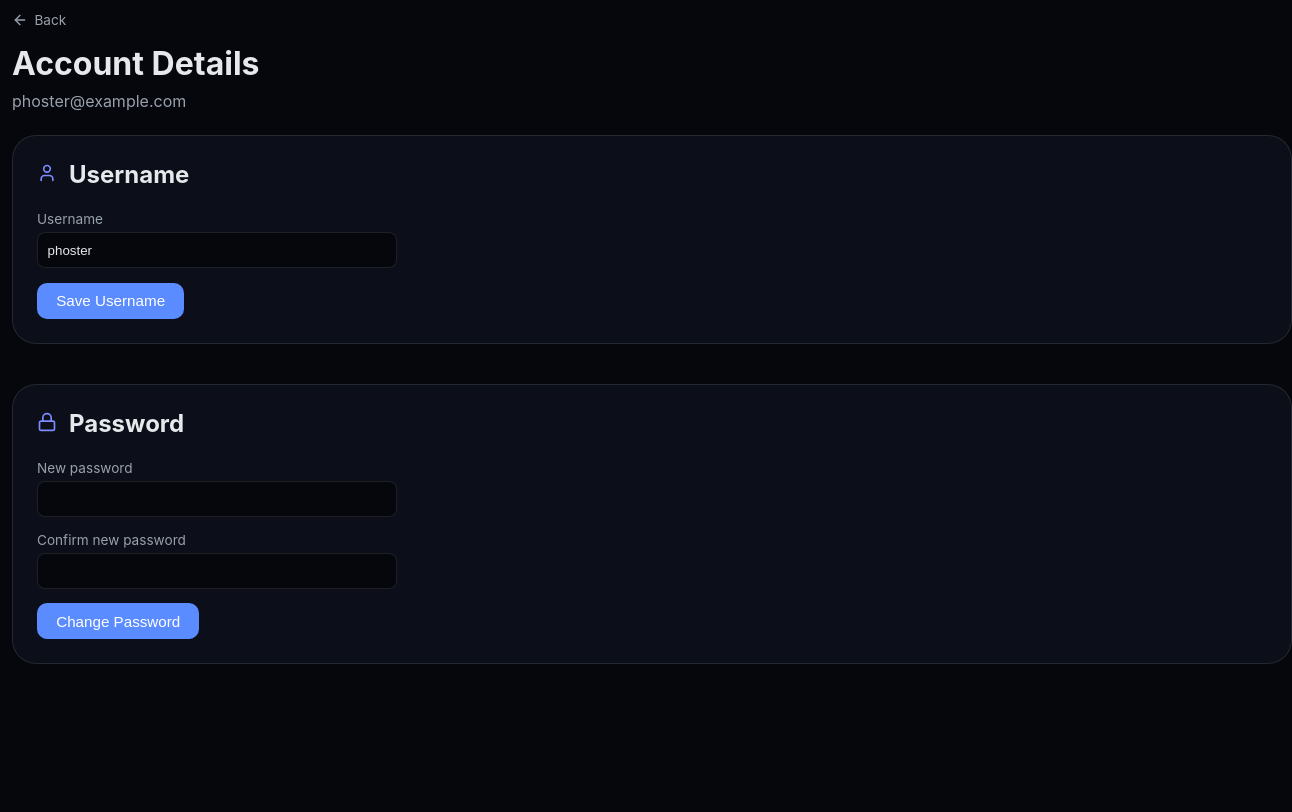
Test: Account › sends both password fields to the backend and shows its validation error
In the password field labelled "New password": (217, 499) [37,481,397,517], type "abc"
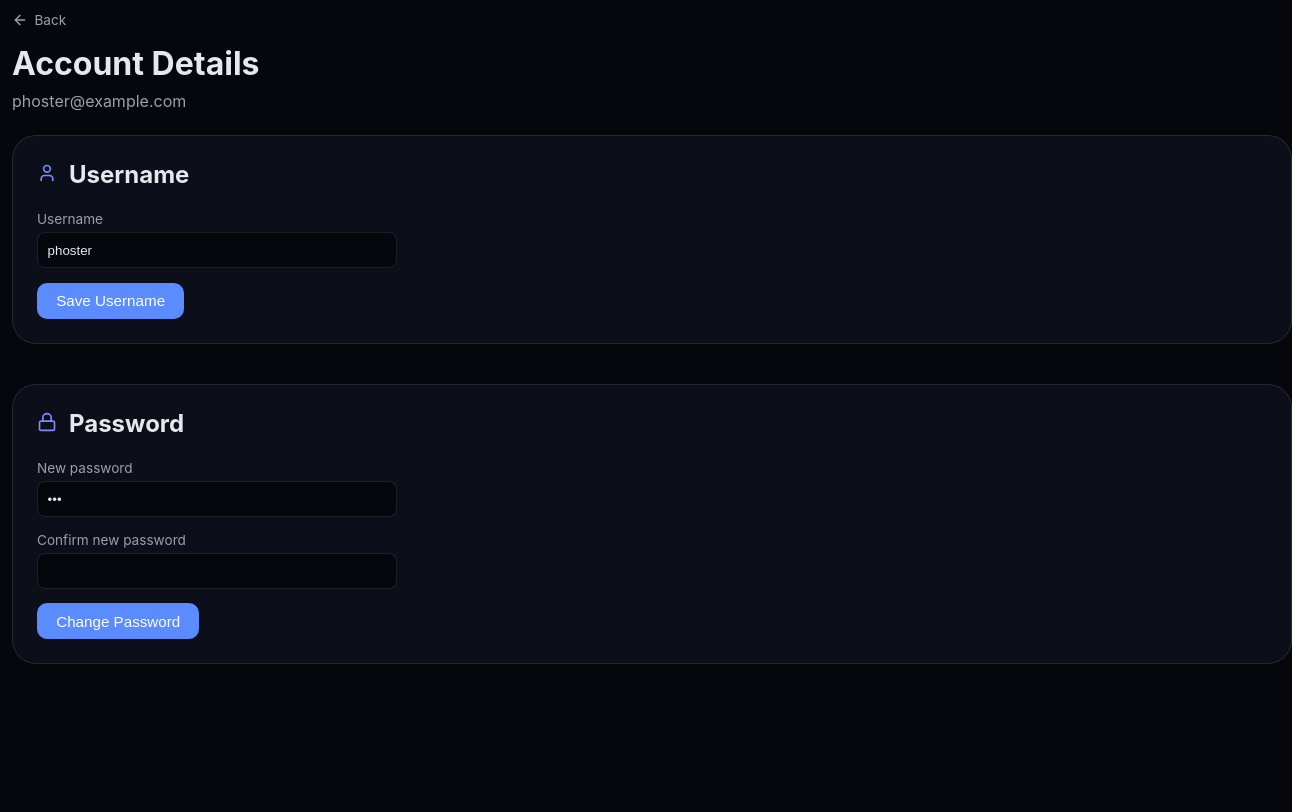
In the password field labelled "Confirm new password": (217, 571) [37,552,397,589], type "abc"
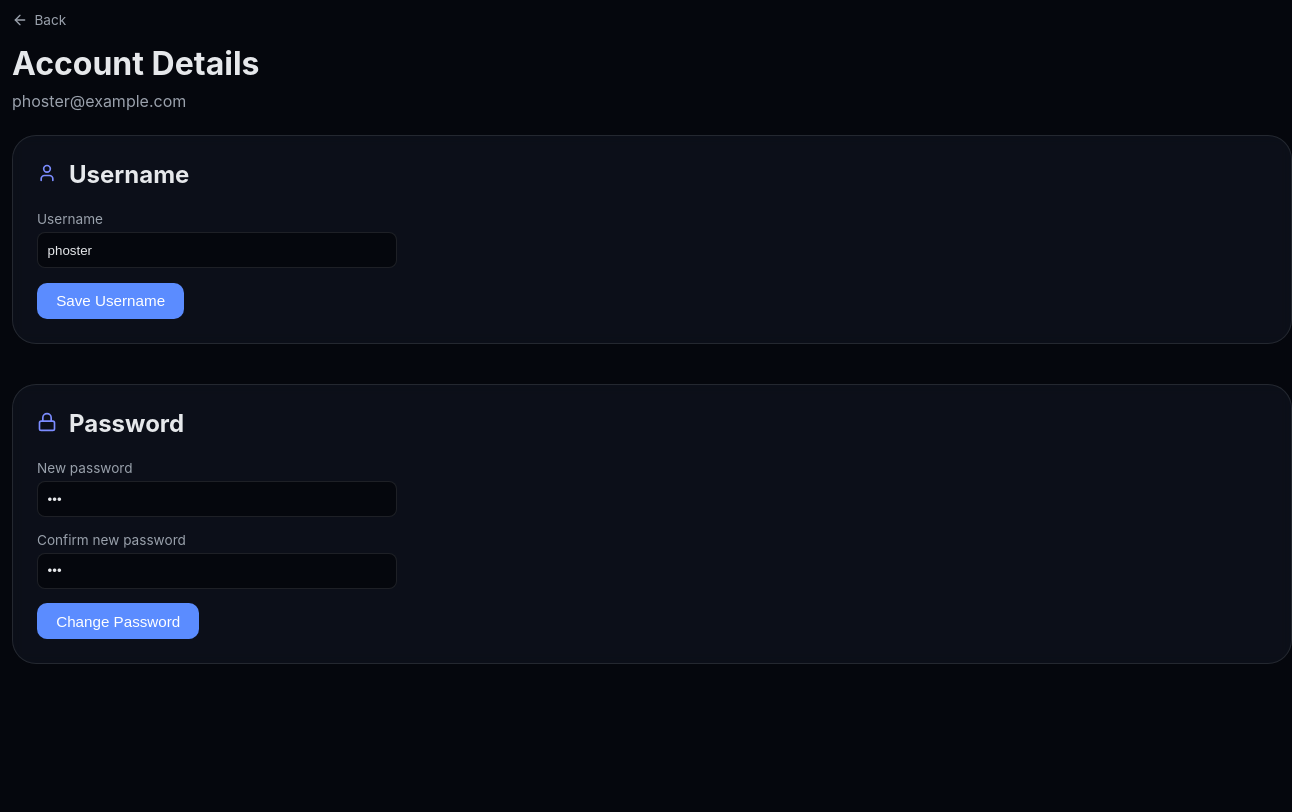
Click the button "Change Password": click(118, 621) [37,603,200,639]
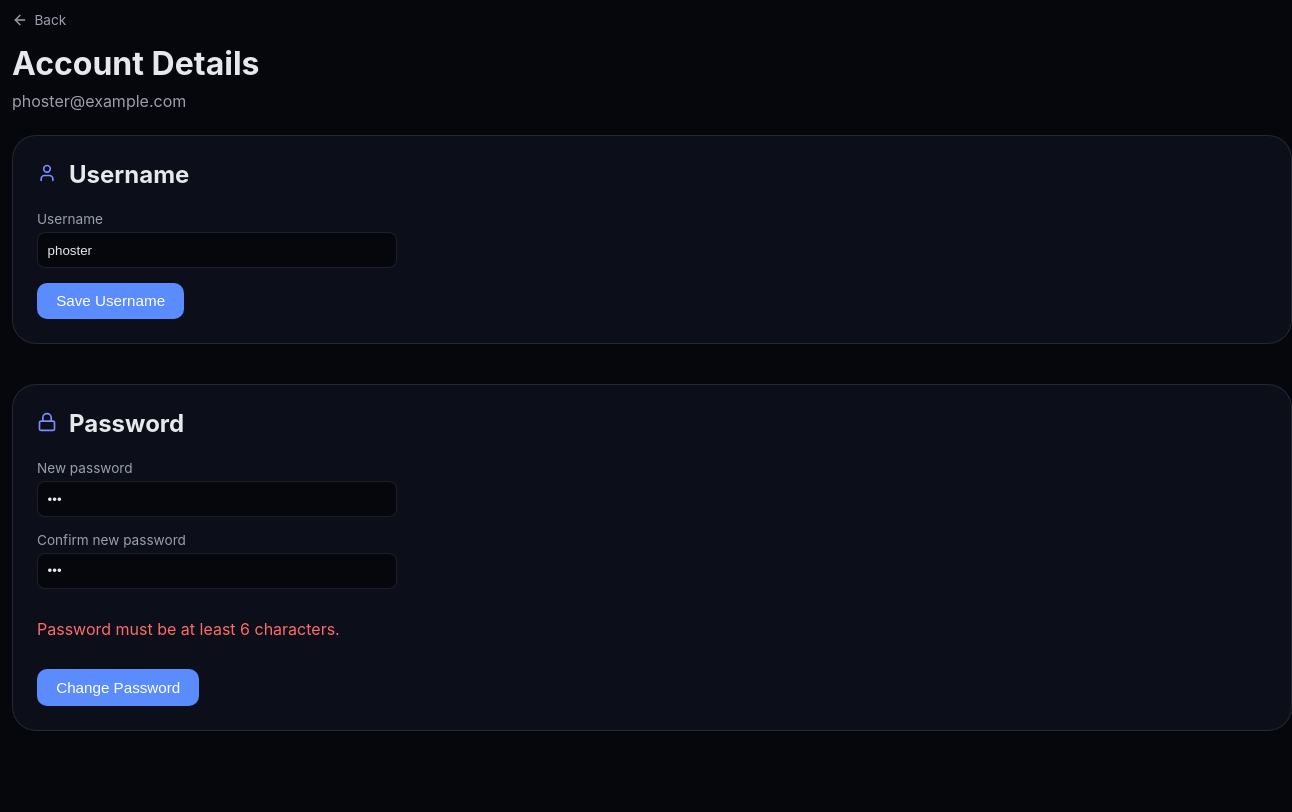
Expected: the text "Password must be at least 6 characters." is shown, [37,619,340,639]
